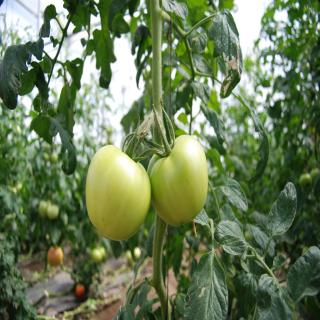tomato: (147, 96, 208, 224), (81, 142, 152, 244)
